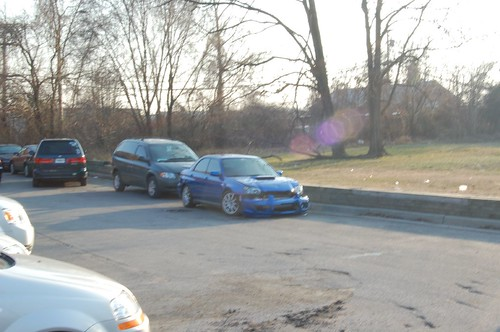car: (176, 150, 318, 224), (111, 136, 200, 198), (28, 134, 94, 185)
grass: (285, 142, 500, 200)
street: (19, 175, 500, 332)
vegetation: (1, 1, 494, 149)
